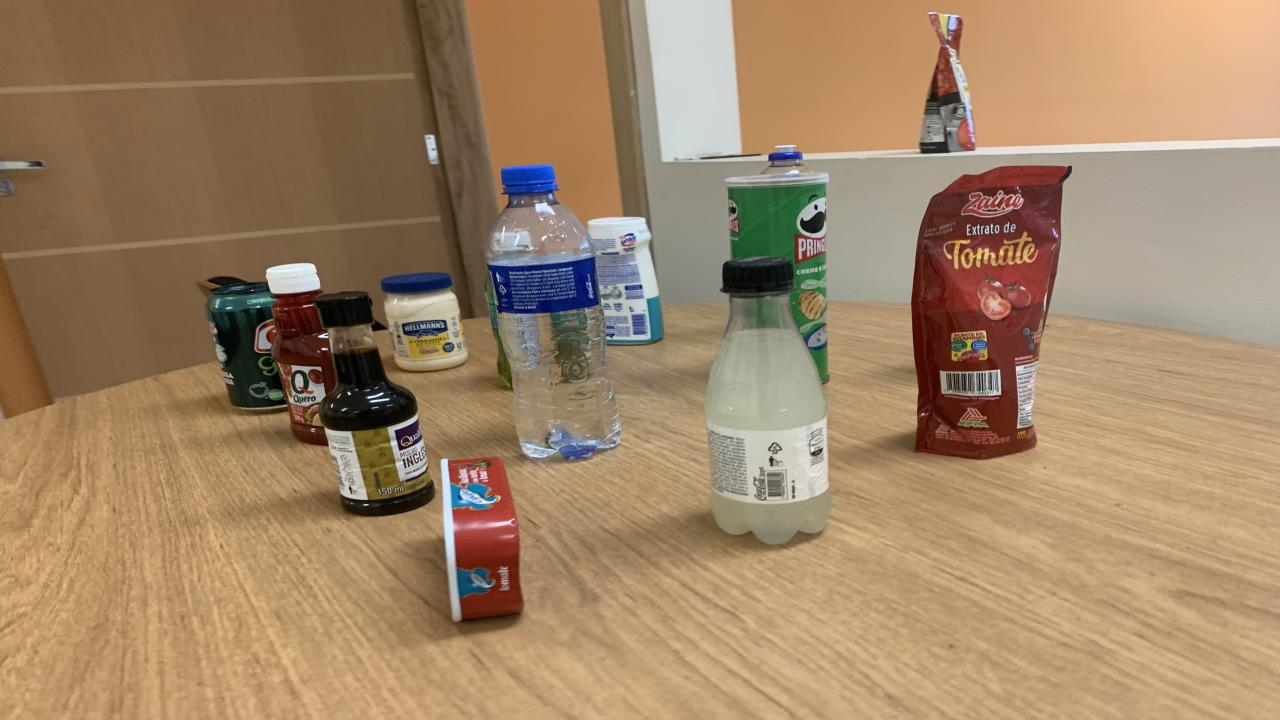Cleaner-Cleanup_Items: (588, 218, 662, 345)
Detergent-Cleanup_Items: (762, 144, 808, 174)
English_Sauce-Pantry_Items: (315, 292, 435, 516)
Guarana-Drinks: (485, 278, 512, 388)
Guarana_Can-Drinks: (205, 283, 285, 411)
Ketchup-Pantry_Items: (268, 262, 335, 444)
Mayonnaise-Pantry_Items: (382, 272, 468, 371)
Pringles-Snacks: (728, 172, 828, 382)
Soda-Drinks: (705, 257, 832, 544)
Tomato_Sauce-Pantry_Items: (912, 167, 1070, 459), (920, 13, 975, 154)
Tuna_Can-Pantry_Items: (440, 458, 522, 621)
Water_Bottle-Drinks: (485, 165, 620, 459)
